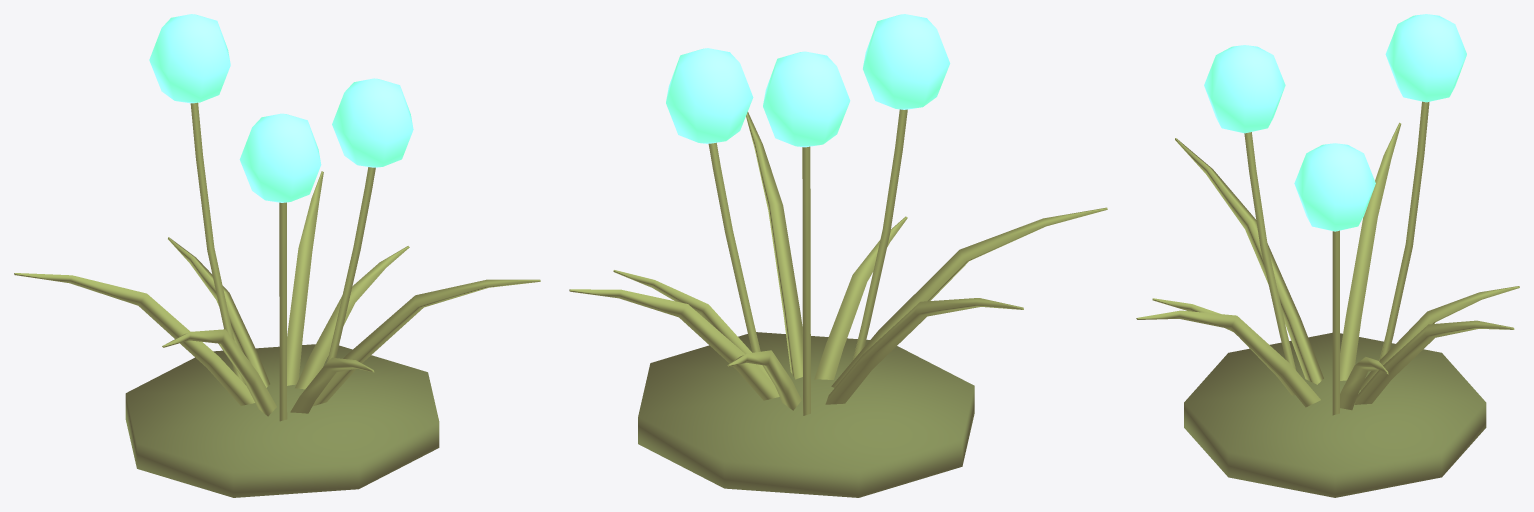
File: prop_tc_linh_thao.e14f950c25.glb
The picture shows the model from 3 angles, left to right: view 1: azimuth 30°, elevation 25°; view 2: azimuth 150°, elevation 25°; view 3: azimuth 270°, elevation 25°; orthographic projection. The views are drawn at different scales.
Visible parts, largest first — view 1: prop_tc_linh_thao; view 2: prop_tc_linh_thao; view 3: prop_tc_linh_thao.
Boxes of the visible parts, <box> form: prop_tc_linh_thao: <box>14,14,540,497</box>; prop_tc_linh_thao: <box>569,14,1107,497</box>; prop_tc_linh_thao: <box>1136,14,1519,497</box>.
Size of what is drawn, in the model's own units: 1.29 by 1.28 by 1.1.
